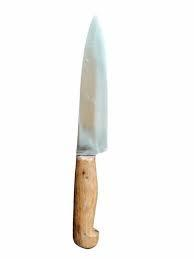Knife: (72, 15, 108, 248)
